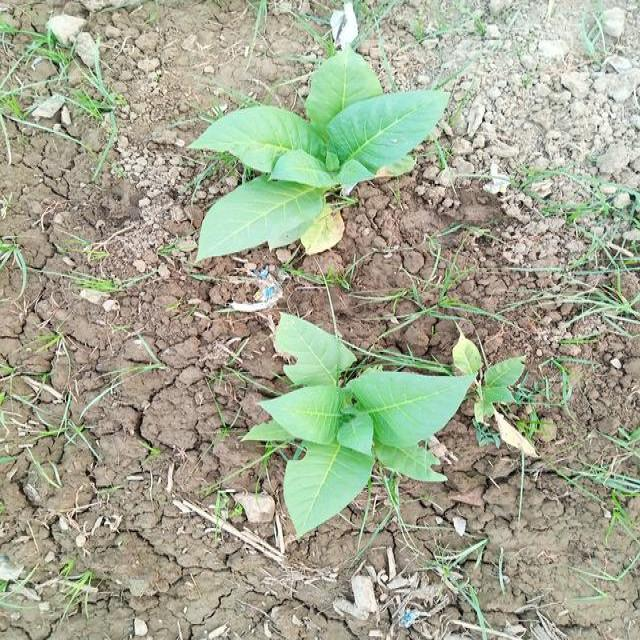crop: (202, 56, 442, 263), (263, 306, 460, 530)
